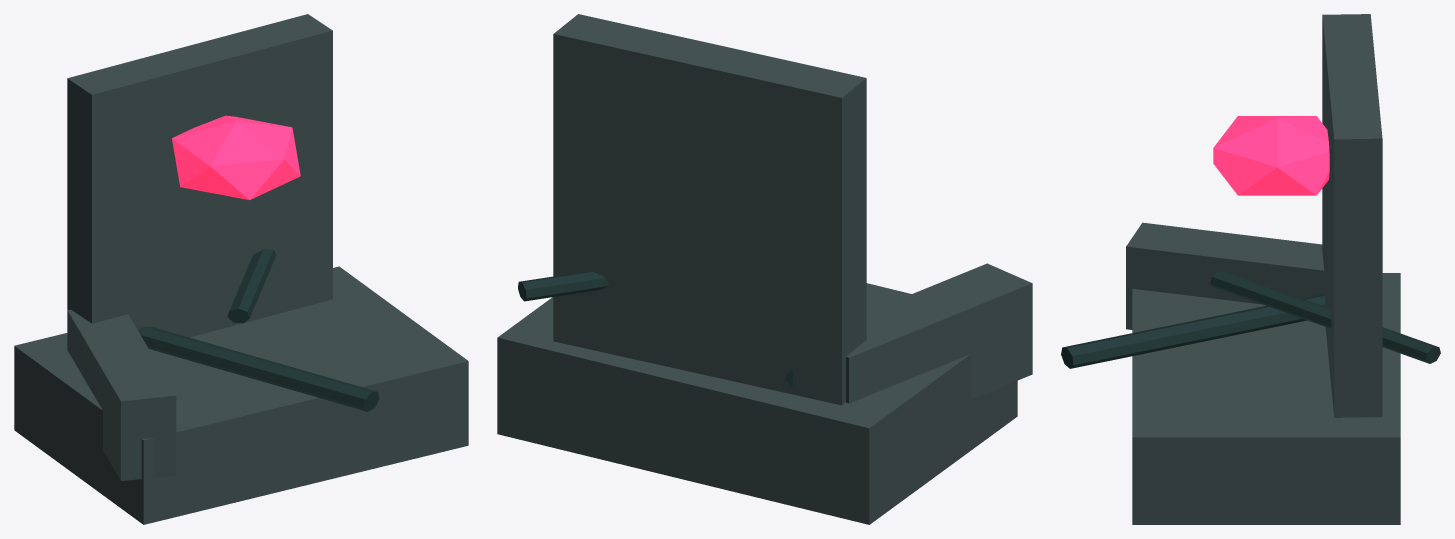
File: df_v2_corrupted_altar_a.glb
The picture shows the model from 3 angles, left to right: view 1: azimuth 30°, elevation 25°; view 2: azimuth 150°, elevation 25°; view 3: azimuth 270°, elevation 25°; orthographic projection. The views are drawn at different scales.
Visible parts, largest first — view 1: rear_slab, broken_plinth, fallen_side_slab, corrupted_core, overgrown_root_0, overgrown_root_1; view 2: rear_slab, broken_plinth, fallen_side_slab, overgrown_root_1; view 3: broken_plinth, rear_slab, fallen_side_slab, corrupted_core, overgrown_root_0, overgrown_root_1.
Boxes of the visible parts, x1,y1,x2,y2 form: rear_slab: [67, 14, 332, 337]; broken_plinth: [14, 266, 468, 524]; fallen_side_slab: [67, 309, 176, 481]; corrupted_core: [172, 115, 300, 200]; overgrown_root_0: [138, 326, 379, 411]; overgrown_root_1: [227, 249, 276, 323]; rear_slab: [553, 14, 866, 405]; broken_plinth: [497, 283, 1017, 524]; fallen_side_slab: [846, 263, 1032, 403]; overgrown_root_1: [518, 271, 608, 301]; broken_plinth: [1132, 273, 1400, 524]; rear_slab: [1322, 14, 1382, 417]; fallen_side_slab: [1126, 222, 1324, 329]; corrupted_core: [1213, 116, 1329, 195]; overgrown_root_0: [1061, 294, 1325, 368]; overgrown_root_1: [1210, 270, 1440, 363].
Size of the model in its own units: 1.53 by 1.5 by 1.42.
